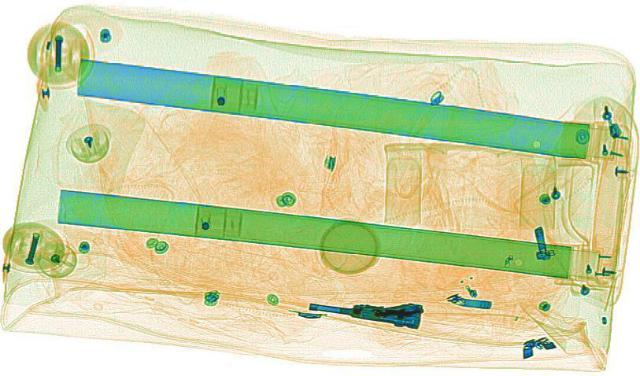Gun: (302, 291, 423, 327)
